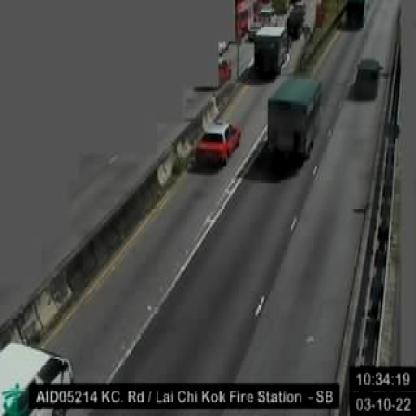Car: (268, 78, 320, 165), (195, 121, 241, 163), (254, 23, 288, 71), (355, 57, 381, 90)
